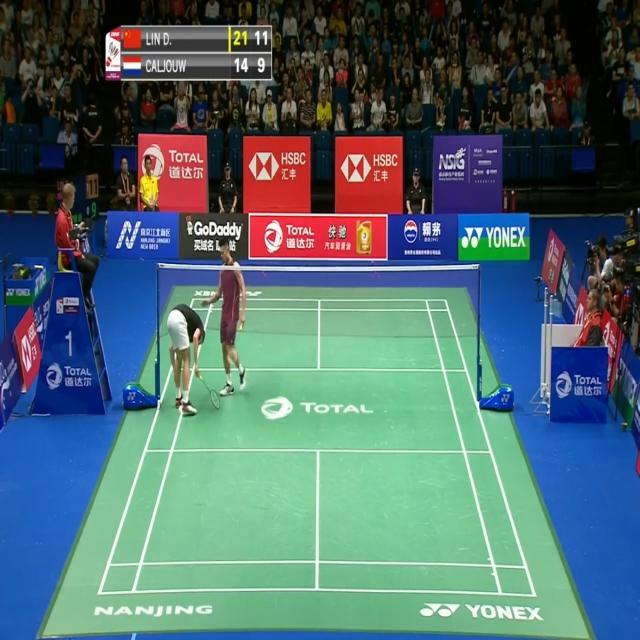Player1: (166, 302, 206, 422)
Player2: (203, 240, 254, 398)
